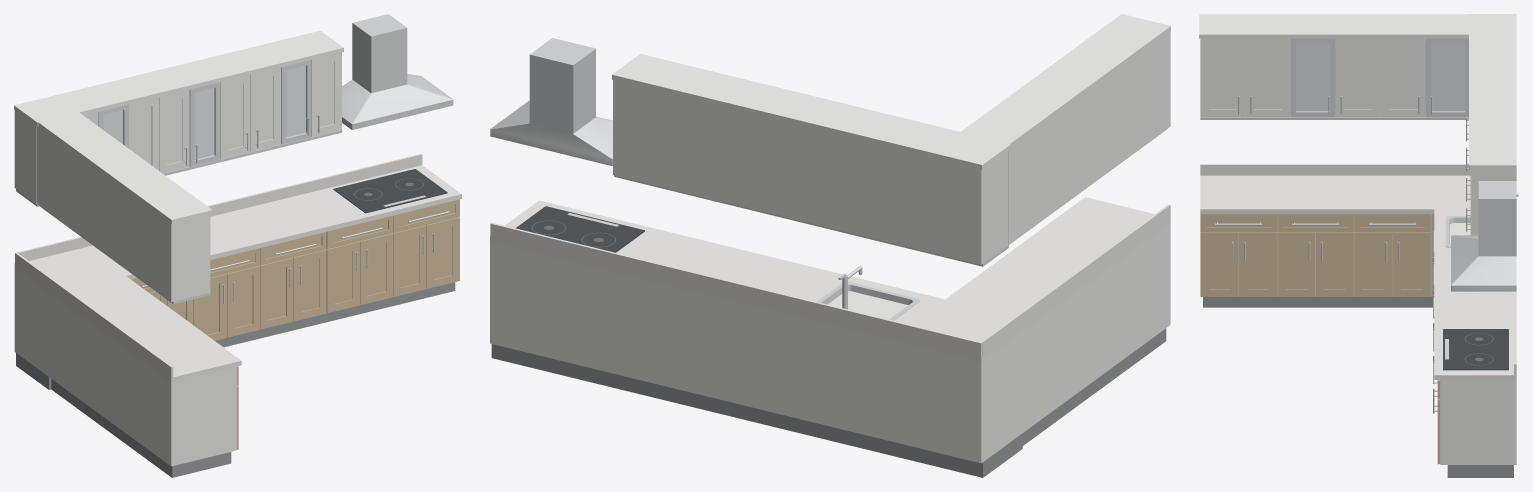
3 views of the same model, side by side, from view 1: azimuth 30°, elevation 25°; view 2: azimuth 150°, elevation 25°; view 3: azimuth 270°, elevation 25° (orthographic). The views are drawn at different scales.
Parts seen in each view (by area): view 1: Tủ bếp chữ L Dài cạnh chính=3600; Dài cạnh phụ=2400; Sâu tủ ; view 2: Tủ bếp chữ L Dài cạnh chính=3600; Dài cạnh phụ=2400; Sâu tủ ; view 3: Tủ bếp chữ L Dài cạnh chính=3600; Dài cạnh phụ=2400; Sâu tủ .
Part boxes in pixels (<box>): Tủ bếp chữ L Dài cạnh chính=3600; Dài cạnh phụ=2400; Sâu tủ : <box>14,14,461,477</box>; Tủ bếp chữ L Dài cạnh chính=3600; Dài cạnh phụ=2400; Sâu tủ : <box>490,14,1170,477</box>; Tủ bếp chữ L Dài cạnh chính=3600; Dài cạnh phụ=2400; Sâu tủ : <box>1199,14,1518,477</box>.
Size of the model in its own units: 3.61 by 2.2 by 2.42.
